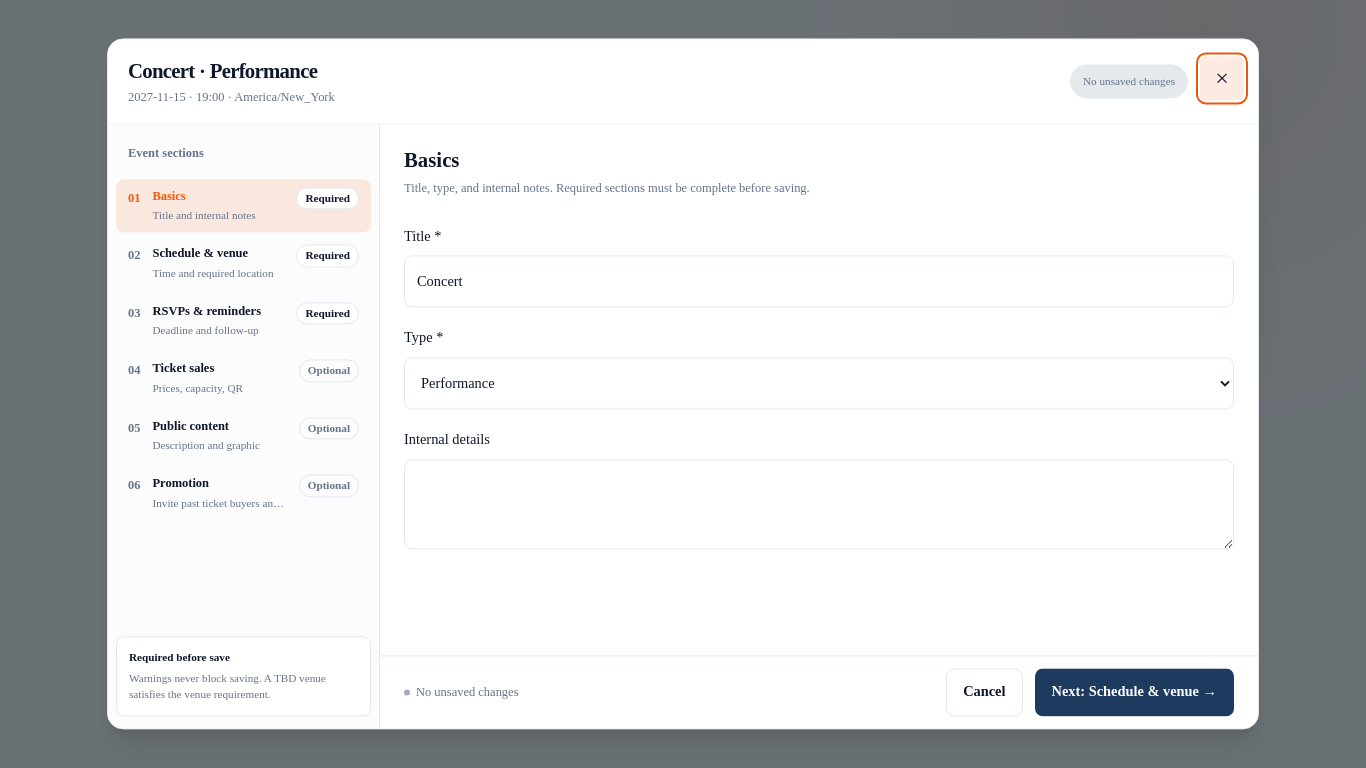
EventEditorDialog section layout › allows the optional doors-open time to be set to
What coordinates should you click on to do the following:
click the tab "02 Schedule & venue Time and required location Required"
I would click on:
 (244, 263)
Its box is [116,236,371,290].
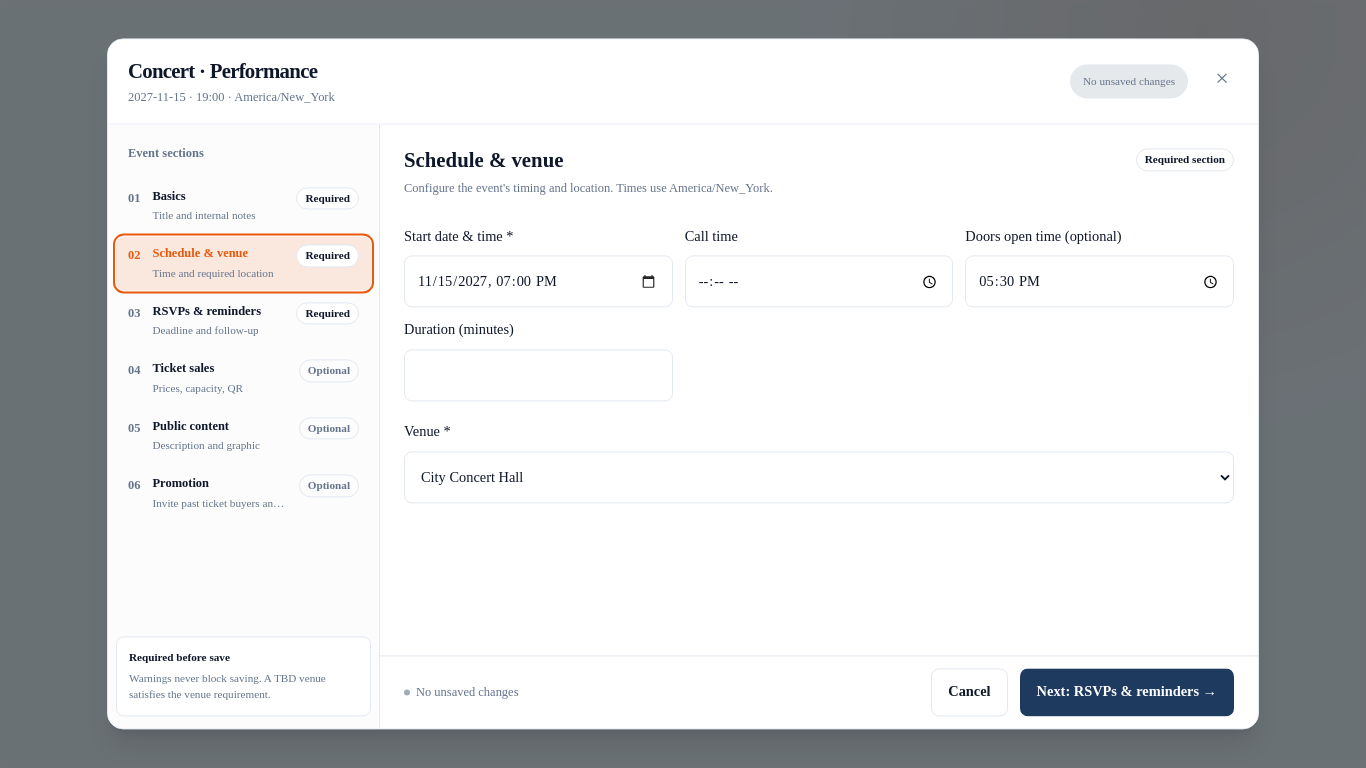
Expected: the time field labelled "Doors open time (optional)" holds "17:30", [965,256,1234,308]
